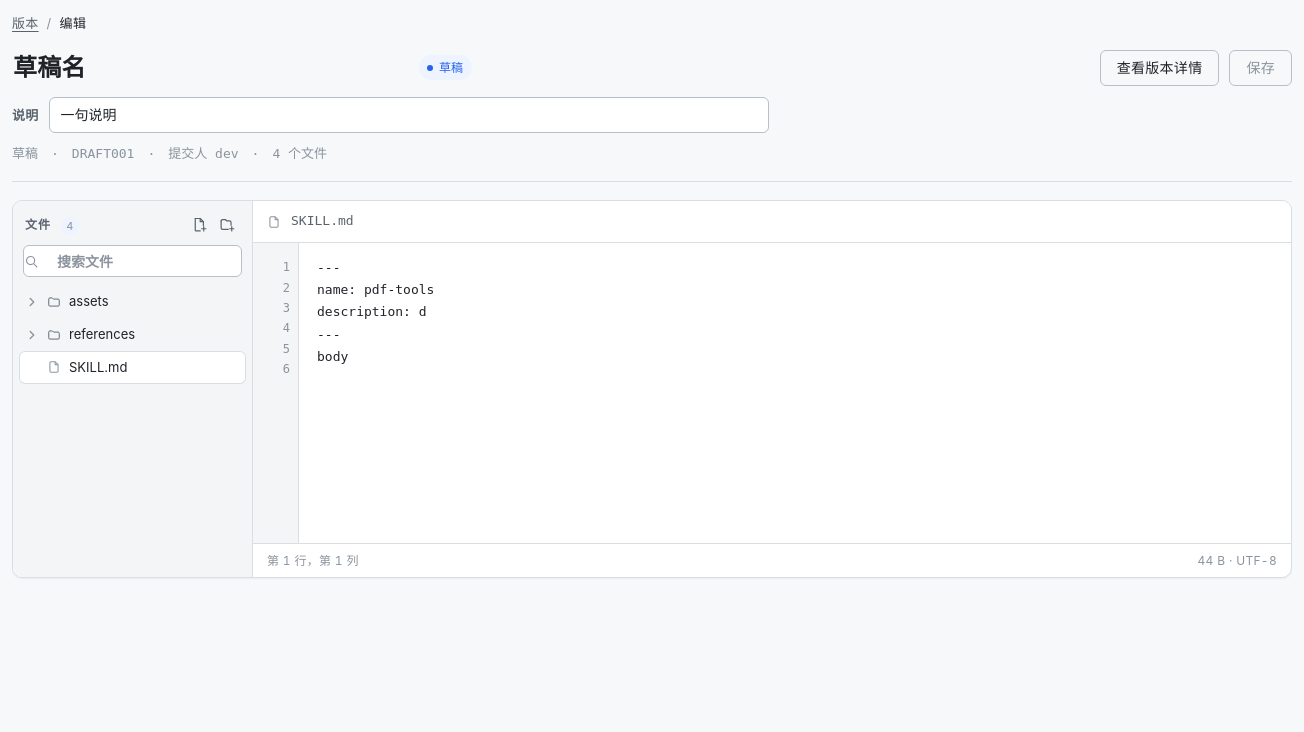
Test: VersionEditorPage · a draft › names the published version a duplicate belongs to
Replace the text in the text box with id "edText" with "same " at x=795, y=393, box x1=299 y1=243 x2=1291 y2=544
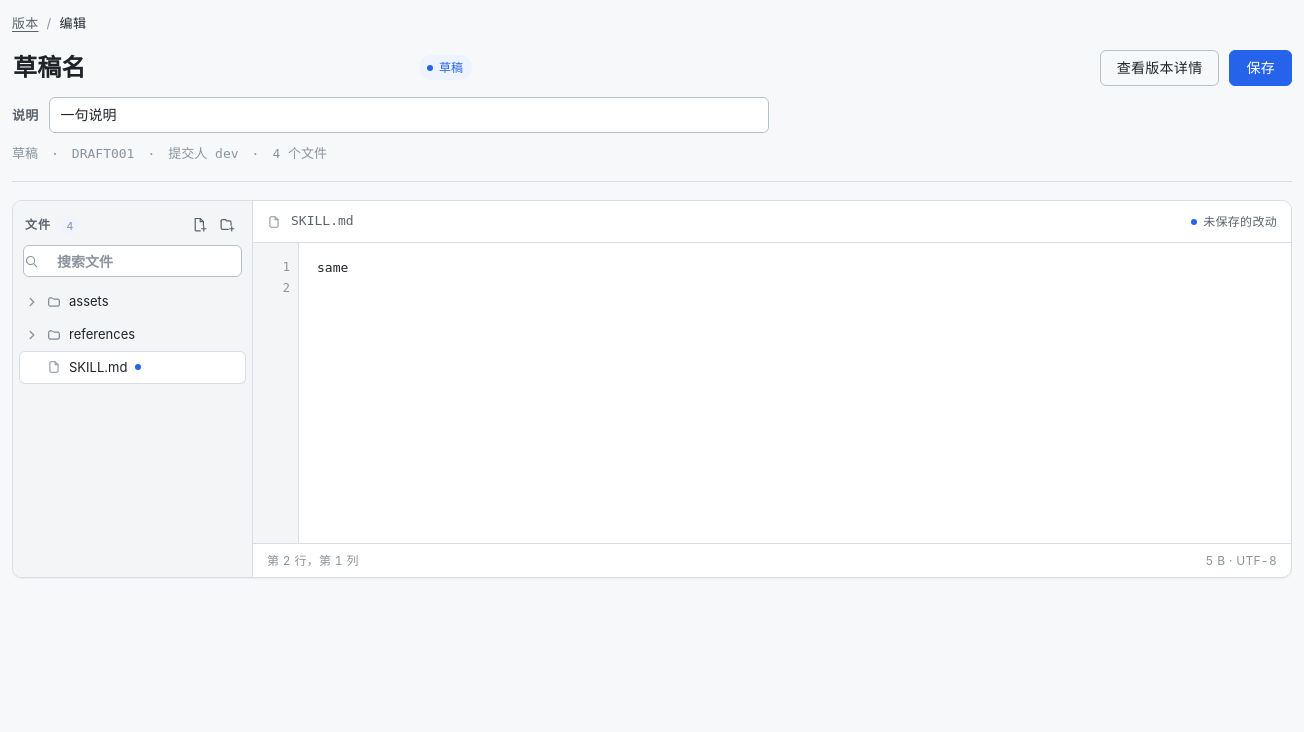
Click the button with id "edSave".
click(1261, 68)  # box x1=1229 y1=50 x2=1292 y2=86
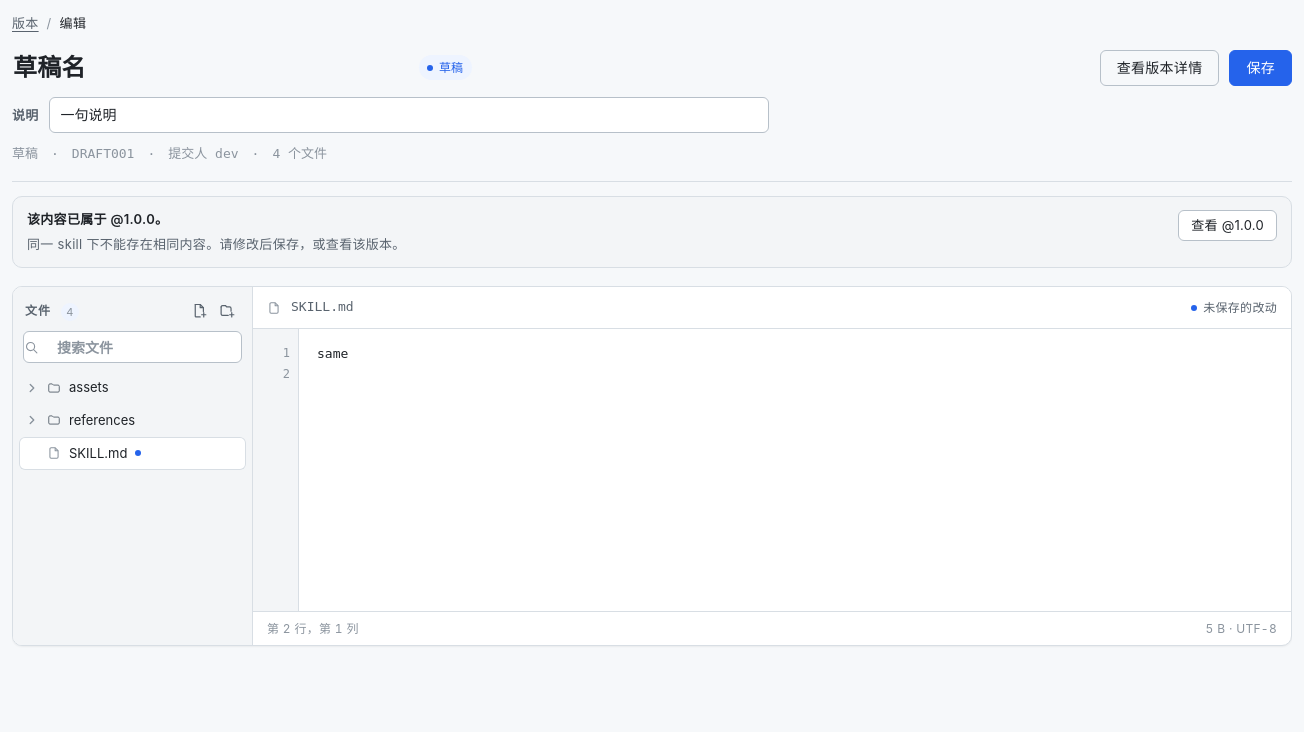
Now the text with id "edDuplicateTitle" reads "该内容已属于 @1.0.0。", box x1=27 y1=212 x2=168 y2=228
Now the link with id "edDuplicateLink" reads "查看 @1.0.0", box x1=1178 y1=210 x2=1277 y2=241
